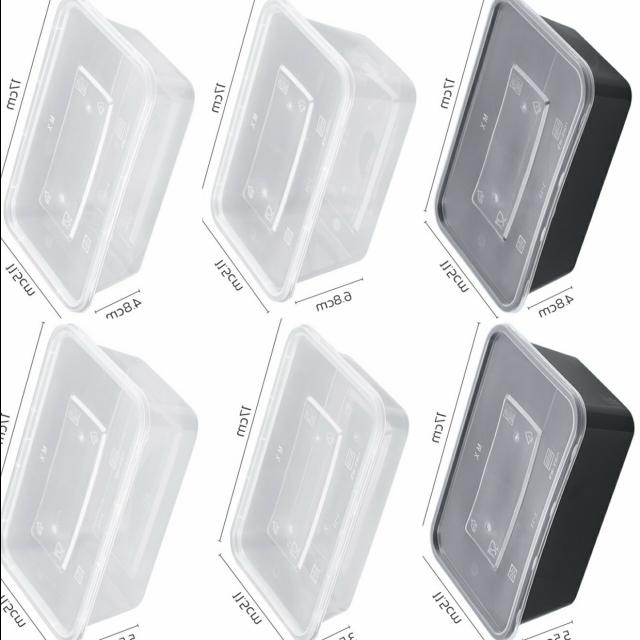plastik: (430, 325, 631, 639), (0, 325, 196, 640), (211, 0, 413, 301), (434, 0, 629, 311), (3, 0, 192, 311), (230, 325, 407, 640)
